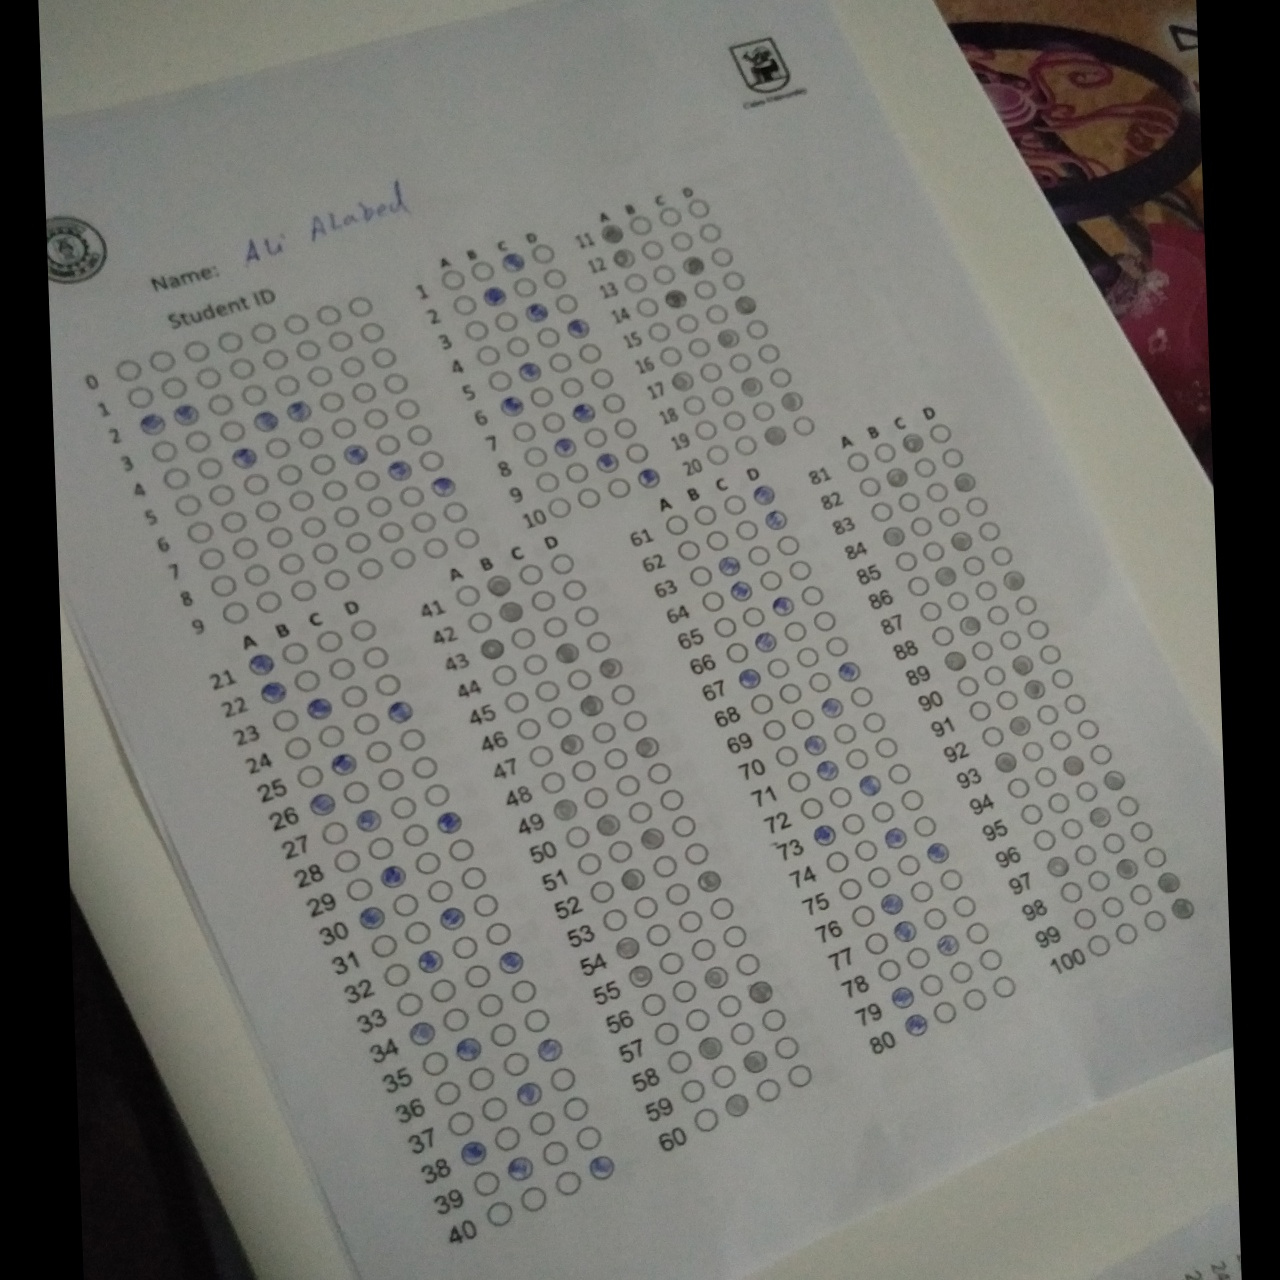not-c: (319, 818, 349, 845), (564, 666, 594, 693), (375, 765, 406, 792), (291, 667, 321, 694), (278, 639, 308, 666), (644, 760, 674, 787), (445, 836, 475, 863), (520, 651, 550, 678), (490, 662, 519, 689), (341, 778, 370, 805), (373, 670, 402, 697), (270, 706, 299, 733), (573, 602, 602, 629), (559, 576, 588, 602), (464, 610, 493, 636), (361, 644, 390, 670), (516, 560, 545, 587), (510, 978, 539, 1005), (462, 964, 491, 990), (428, 978, 457, 1005), (395, 990, 424, 1017), (483, 920, 512, 947), (413, 847, 442, 874), (658, 787, 687, 813), (538, 769, 567, 796), (652, 1019, 681, 1046), (707, 896, 736, 922), (574, 1124, 604, 1151), (433, 1080, 462, 1107), (475, 990, 504, 1017), (631, 892, 660, 919), (648, 852, 678, 879), (669, 812, 699, 839), (708, 1063, 737, 1090), (692, 1105, 721, 1132), (785, 1062, 815, 1089), (754, 1076, 783, 1103), (758, 1007, 788, 1034), (731, 951, 761, 978), (719, 922, 748, 949), (689, 935, 719, 962), (668, 976, 697, 1003), (638, 990, 667, 1017), (625, 798, 655, 824), (389, 794, 417, 821), (584, 628, 612, 655), (397, 726, 425, 753), (365, 738, 393, 765), (508, 624, 536, 651), (327, 653, 355, 680), (547, 549, 576, 576), (349, 615, 377, 642), (315, 627, 343, 654), (458, 863, 486, 890), (425, 876, 454, 903), (390, 890, 418, 917), (343, 876, 372, 903), (568, 756, 597, 783), (588, 719, 617, 745), (545, 703, 573, 730), (542, 1139, 570, 1166), (547, 1065, 576, 1092), (501, 1049, 529, 1076), (467, 1065, 495, 1092), (601, 904, 629, 931), (682, 840, 710, 867), (772, 1034, 801, 1061), (874, 956, 903, 983), (884, 760, 912, 787), (823, 847, 851, 874), (1071, 904, 1099, 931), (918, 971, 946, 998), (400, 822, 429, 847), (366, 835, 395, 860), (332, 847, 361, 873), (422, 782, 451, 808), (410, 754, 440, 779), (294, 763, 324, 789), (352, 710, 381, 736), (339, 682, 368, 708), (527, 587, 557, 613), (449, 934, 478, 960), (381, 962, 410, 988), (471, 892, 501, 918), (403, 919, 433, 945), (369, 933, 399, 959), (612, 772, 641, 798), (580, 784, 610, 810), (600, 745, 629, 771), (620, 707, 649, 733), (607, 681, 636, 707), (501, 689, 530, 715), (483, 1199, 512, 1225), (518, 1185, 547, 1211), (445, 1110, 475, 1136), (522, 1008, 551, 1034), (489, 1021, 518, 1047), (420, 1050, 449, 1076), (441, 1007, 470, 1033), (587, 877, 617, 903), (605, 837, 634, 863), (573, 850, 602, 876), (561, 824, 591, 850), (682, 1007, 712, 1033), (665, 1048, 694, 1074), (728, 1020, 757, 1046), (715, 993, 744, 1019), (644, 921, 673, 947), (271, 372, 301, 396), (182, 339, 212, 363), (765, 365, 796, 389), (218, 509, 248, 533), (361, 406, 392, 430), (418, 536, 449, 560), (474, 1171, 501, 1198), (847, 903, 874, 930), (905, 944, 932, 971), (898, 787, 925, 813), (1032, 826, 1058, 853), (1073, 840, 1099, 867), (978, 946, 1005, 973), (658, 949, 686, 975), (282, 735, 311, 761), (316, 722, 345, 748), (540, 613, 568, 639), (452, 583, 481, 608), (526, 742, 554, 768), (513, 715, 542, 741), (533, 678, 561, 703), (676, 908, 704, 934), (554, 1170, 583, 1196), (560, 1095, 588, 1121), (526, 1109, 554, 1135), (479, 1096, 508, 1122), (663, 881, 692, 907), (678, 1080, 706, 1105), (906, 878, 934, 904), (894, 851, 922, 877), (826, 783, 855, 809), (908, 815, 937, 840), (937, 866, 965, 892), (1115, 794, 1143, 819), (960, 987, 988, 1013), (1141, 907, 1169, 933), (282, 311, 312, 335), (638, 238, 667, 263), (259, 347, 288, 372), (355, 319, 384, 343), (692, 418, 721, 443), (674, 309, 703, 334), (508, 420, 537, 444), (551, 291, 580, 315), (353, 467, 382, 491), (343, 530, 373, 554), (345, 294, 375, 318), (313, 304, 343, 327), (449, 293, 479, 316), (217, 418, 247, 442), (305, 365, 335, 388), (292, 338, 322, 361), (666, 229, 696, 252), (654, 205, 685, 229), (527, 241, 558, 265), (147, 348, 177, 372), (113, 358, 143, 381), (509, 275, 539, 299), (789, 414, 819, 437), (679, 393, 709, 416), (755, 341, 785, 365), (561, 461, 592, 484), (556, 375, 586, 399), (459, 318, 490, 341), (230, 537, 260, 560), (196, 546, 226, 570), (285, 488, 315, 511), (602, 477, 633, 501), (241, 563, 272, 586), (275, 551, 306, 574), (331, 504, 361, 527), (441, 499, 471, 523), (493, 1124, 520, 1150), (862, 930, 888, 955), (785, 768, 812, 794), (837, 876, 864, 901), (798, 796, 825, 822), (1058, 815, 1085, 840), (1129, 818, 1156, 844), (1099, 830, 1126, 856), (1085, 867, 1112, 893), (1057, 879, 1084, 905), (1128, 881, 1155, 907), (948, 959, 975, 985), (990, 973, 1017, 999), (588, 366, 617, 390), (206, 483, 234, 508), (349, 380, 377, 404), (921, 906, 949, 931), (839, 811, 867, 836), (1141, 844, 1169, 869), (949, 894, 978, 919), (1085, 933, 1114, 958), (150, 438, 179, 462), (240, 382, 270, 406), (206, 393, 236, 416), (685, 195, 714, 218), (437, 268, 467, 292), (193, 367, 223, 390), (158, 375, 188, 399), (124, 384, 154, 408), (540, 266, 570, 290), (720, 409, 749, 433), (731, 434, 761, 457), (709, 383, 738, 407), (727, 350, 756, 374), (743, 316, 772, 340), (685, 334, 714, 358), (644, 320, 673, 343), (719, 268, 748, 292), (707, 245, 736, 268), (520, 445, 550, 469), (580, 425, 610, 449), (526, 384, 556, 408), (502, 334, 531, 358), (533, 325, 563, 348), (574, 341, 604, 365), (598, 393, 627, 416), (622, 440, 652, 463), (261, 436, 291, 459), (193, 456, 223, 479), (544, 496, 573, 519), (355, 556, 384, 579), (321, 567, 350, 591), (253, 590, 282, 613), (309, 542, 339, 565), (365, 493, 394, 517), (416, 448, 445, 471), (325, 329, 355, 352), (183, 430, 213, 452), (467, 260, 497, 282), (452, 527, 483, 550), (749, 399, 779, 421), (695, 361, 726, 383), (631, 295, 661, 318), (651, 263, 681, 285), (611, 417, 641, 440), (372, 433, 402, 455), (319, 478, 349, 501), (251, 499, 281, 522), (183, 519, 213, 542), (394, 397, 424, 420), (408, 511, 438, 533), (388, 547, 418, 570), (377, 519, 408, 542), (297, 515, 327, 537), (263, 526, 293, 549), (406, 423, 436, 445), (703, 527, 729, 553), (865, 864, 892, 888), (869, 799, 896, 824), (852, 837, 879, 862), (1099, 894, 1126, 919), (965, 920, 992, 945), (931, 1000, 958, 1024), (1114, 920, 1141, 945), (1024, 617, 1051, 641), (704, 443, 733, 467), (692, 279, 720, 302), (622, 272, 651, 295), (492, 309, 520, 333), (275, 462, 304, 485), (241, 472, 270, 496), (290, 578, 318, 601), (369, 347, 399, 369), (338, 355, 367, 377), (626, 213, 655, 236), (226, 356, 256, 379), (248, 321, 278, 343), (215, 331, 244, 353), (655, 345, 685, 367), (703, 301, 733, 324), (538, 411, 567, 434), (544, 350, 573, 373), (308, 452, 338, 475), (331, 416, 360, 438), (295, 425, 325, 448), (161, 467, 190, 489), (381, 372, 410, 394), (316, 389, 346, 411), (532, 471, 561, 493), (573, 486, 602, 509), (472, 343, 502, 366), (219, 601, 248, 624), (206, 574, 236, 597), (973, 578, 999, 602), (985, 602, 1010, 627), (1020, 738, 1046, 763), (912, 455, 938, 479), (745, 543, 771, 567), (787, 558, 812, 583), (795, 645, 821, 669), (844, 747, 870, 771), (1017, 802, 1044, 825), (869, 499, 896, 523), (847, 685, 874, 708), (964, 495, 990, 518), (172, 493, 200, 516), (486, 368, 515, 390), (397, 485, 425, 508), (994, 688, 1019, 713), (893, 549, 918, 573), (896, 490, 920, 515), (871, 440, 896, 464), (758, 568, 783, 593), (798, 584, 823, 608), (782, 619, 806, 644), (988, 544, 1014, 567), (961, 554, 987, 578), (905, 574, 931, 598), (945, 588, 971, 612), (969, 639, 995, 662), (1049, 667, 1075, 690), (1006, 776, 1032, 799), (1033, 765, 1058, 789), (1048, 728, 1074, 751), (1062, 692, 1088, 715), (1088, 742, 1114, 765), (908, 515, 934, 538), (925, 481, 951, 504), (939, 445, 965, 469), (925, 421, 951, 444), (844, 450, 870, 474), (692, 503, 717, 526), (722, 493, 748, 517), (687, 565, 713, 588), (775, 533, 801, 557), (765, 656, 791, 680), (748, 693, 774, 716), (777, 681, 803, 704), (823, 634, 849, 658), (806, 670, 832, 694), (831, 721, 857, 744), (872, 736, 898, 760), (740, 606, 765, 629), (700, 588, 726, 612), (937, 504, 962, 527), (723, 640, 749, 663), (772, 744, 799, 767), (1073, 779, 1099, 802), (663, 515, 690, 537), (697, 220, 726, 241), (967, 699, 992, 722), (930, 624, 954, 647), (982, 663, 1007, 687), (998, 629, 1022, 653), (857, 475, 881, 498), (675, 538, 700, 561), (813, 610, 838, 633), (789, 707, 813, 730), (712, 614, 737, 636), (920, 540, 946, 563), (1074, 717, 1099, 740), (1046, 791, 1071, 813), (734, 519, 760, 542), (761, 719, 787, 741), (862, 710, 887, 733), (980, 724, 1005, 747), (1035, 703, 1060, 726), (955, 675, 980, 697), (976, 520, 1001, 543), (918, 600, 942, 622), (1014, 594, 1039, 617), (1036, 642, 1061, 665)
taken-c: (504, 1155, 536, 1182), (587, 1153, 617, 1182), (636, 824, 665, 851), (496, 393, 525, 418), (570, 400, 599, 425), (429, 474, 458, 499), (341, 441, 370, 467), (170, 400, 199, 425), (495, 949, 524, 975), (701, 964, 730, 989), (515, 1081, 544, 1107), (457, 1141, 488, 1165), (593, 449, 621, 475), (356, 904, 384, 930), (887, 983, 915, 1009), (722, 1092, 750, 1118), (565, 316, 594, 341), (779, 388, 809, 413), (550, 435, 579, 459), (251, 409, 280, 434), (377, 864, 407, 888), (354, 808, 383, 832), (307, 791, 336, 816), (384, 699, 414, 723), (617, 866, 646, 891), (624, 964, 653, 988), (745, 980, 775, 1005), (139, 411, 166, 437), (594, 811, 621, 837), (738, 374, 767, 399), (762, 422, 790, 447), (516, 360, 544, 384), (387, 458, 415, 483), (230, 445, 258, 470), (284, 399, 312, 423), (434, 810, 462, 835), (247, 652, 275, 676), (552, 797, 580, 822), (901, 1013, 930, 1037), (536, 1037, 564, 1062), (407, 1021, 435, 1046), (522, 300, 551, 324), (436, 906, 465, 930), (305, 697, 334, 721), (259, 681, 288, 704), (695, 869, 724, 892), (613, 937, 642, 960), (740, 1049, 769, 1073), (454, 1037, 483, 1061), (836, 659, 862, 685), (636, 465, 663, 490), (731, 292, 758, 316), (331, 751, 359, 775), (695, 1035, 723, 1058), (416, 949, 445, 972), (558, 731, 584, 756), (579, 693, 605, 717), (478, 636, 504, 661), (1006, 714, 1032, 738), (1101, 768, 1126, 792), (802, 733, 828, 757), (956, 613, 983, 636), (811, 823, 836, 847), (716, 326, 742, 349), (762, 508, 788, 531), (751, 484, 777, 508), (634, 735, 660, 758), (486, 573, 512, 597), (1060, 754, 1085, 777), (892, 919, 918, 942), (1087, 804, 1112, 828), (1046, 856, 1071, 879), (1115, 857, 1141, 880), (1155, 871, 1180, 894), (1010, 653, 1036, 676), (770, 593, 796, 617), (813, 758, 839, 782), (856, 774, 881, 797), (899, 430, 926, 452), (595, 656, 622, 679), (497, 600, 524, 622), (881, 826, 908, 849), (1167, 897, 1194, 919), (1022, 678, 1047, 701), (878, 892, 903, 915), (716, 554, 741, 578), (880, 524, 905, 547), (949, 527, 974, 551), (1001, 568, 1026, 592), (753, 629, 777, 653), (501, 252, 526, 274), (599, 223, 625, 245), (680, 254, 706, 277), (553, 641, 579, 663), (992, 751, 1017, 774), (935, 934, 961, 956), (728, 580, 754, 602), (884, 467, 910, 489), (952, 471, 978, 493), (818, 697, 844, 720), (669, 370, 696, 392), (738, 667, 762, 690), (483, 285, 508, 307), (926, 842, 951, 864), (933, 565, 958, 587), (942, 651, 968, 672), (612, 247, 636, 268)
